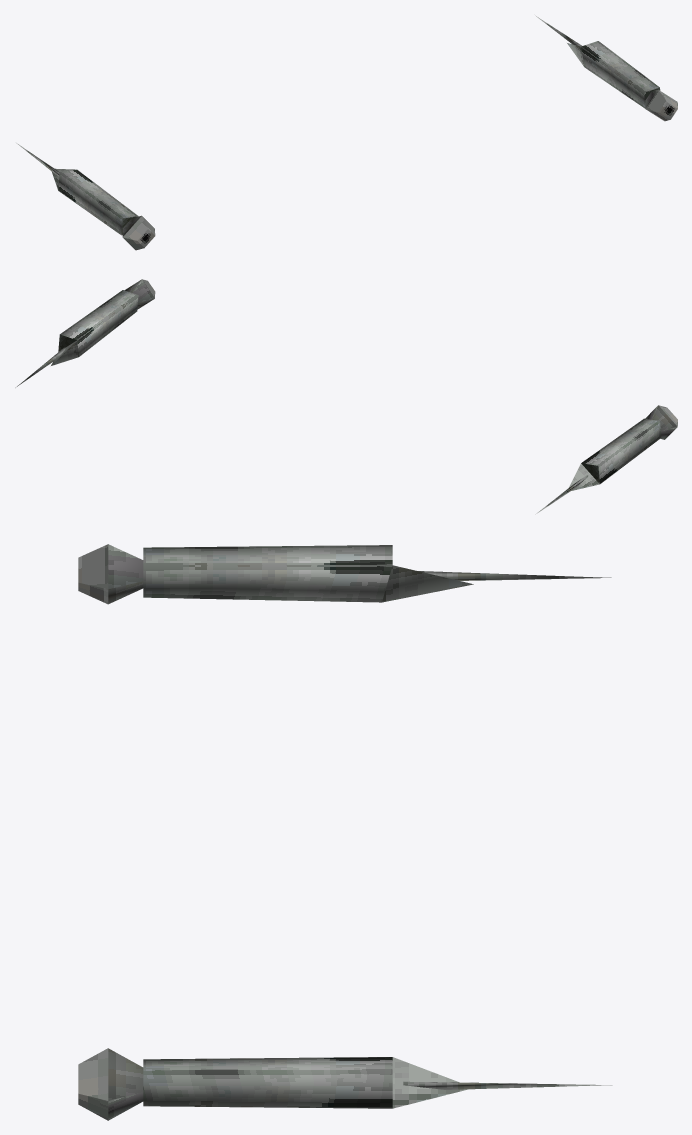
Rendered from hutt_fighter_medium_weapon1_s03_l3.fbx.
3 views of the same model, one above another, from view 1: azimuth 30°, elevation 25°; view 2: azimuth 150°, elevation 25°; view 3: azimuth 270°, elevation 25° (orthographic). The views are drawn at different scales.
Parts seen in each view (by area): view 1: mesh_node; view 2: mesh_node; view 3: mesh_node.
Boxes of the visible parts, x1,y1,x2,y2 form: mesh_node: [16, 15, 677, 250]; mesh_node: [15, 279, 677, 514]; mesh_node: [78, 544, 612, 1120].
Bounding box in the file's own units: 13.66 × 0.7825 × 5.7.
